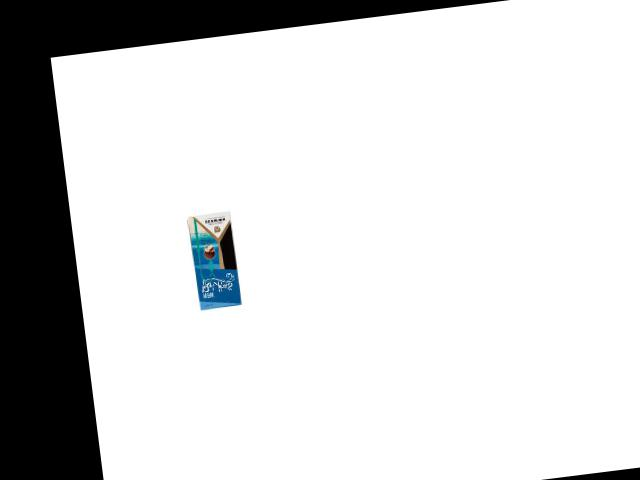chocolate: (185, 208, 244, 312)
